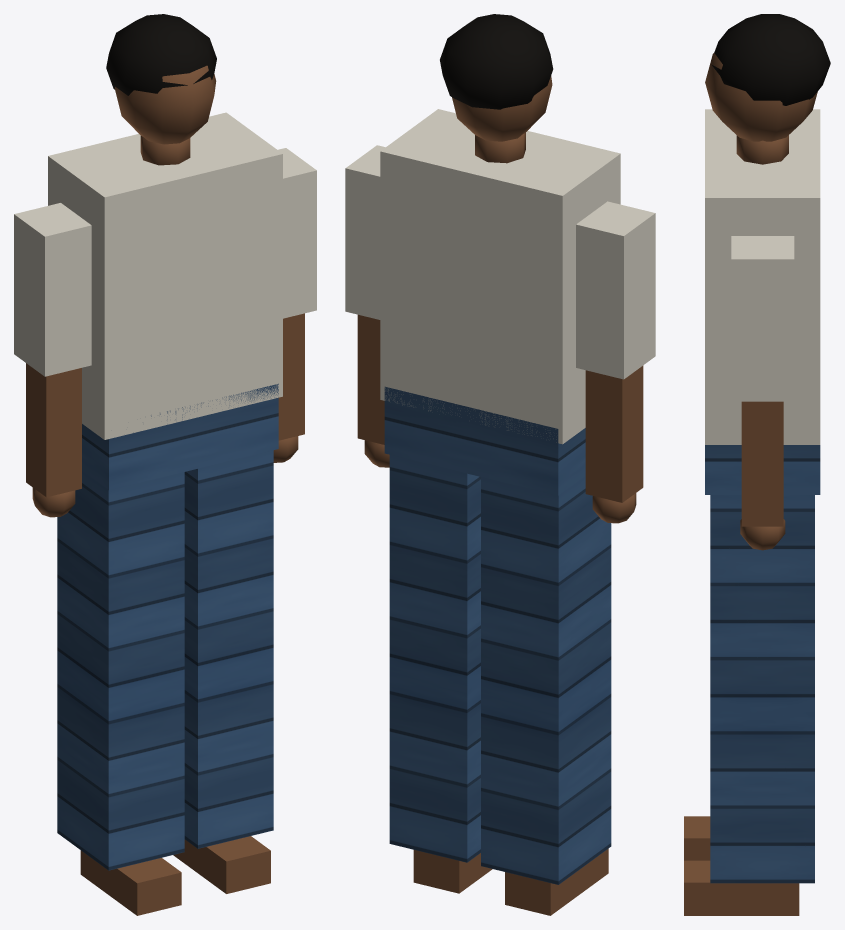
File: civilian.fbx
3 renders of one model, left to right at view 1: azimuth 30°, elevation 25°; view 2: azimuth 150°, elevation 25°; view 3: azimuth 270°, elevation 25°, orthographic. The views are drawn at different scales.
Visible parts, largest first — view 1: Torso, LegR, LegL, ArmR, Head, ArmL; view 2: Torso, LegR, LegL, ArmR, Head, ArmL; view 3: LegL, Torso, ArmL, Head, LegR.
Part boxes in pixels (x1=…): Torso: x1=48, y1=112, x2=282, y2=490; LegR: x1=57, y1=471, x2=184, y2=915; LegL: x1=173, y1=450, x2=273, y2=893; ArmR: x1=14, y1=203, x2=91, y2=517; Head: x1=106, y1=14, x2=216, y2=144; ArmL: x1=273, y1=148, x2=316, y2=462; Torso: x1=380, y1=109, x2=620, y2=495; LegR: x1=481, y1=476, x2=611, y2=915; LegL: x1=389, y1=455, x2=492, y2=893; ArmR: x1=576, y1=201, x2=655, y2=523; Head: x1=440, y1=14, x2=553, y2=141; ArmL: x1=345, y1=145, x2=389, y2=467; LegL: x1=684, y1=495, x2=814, y2=915; Torso: x1=705, y1=109, x2=820, y2=494; ArmL: x1=731, y1=236, x2=794, y2=550; Head: x1=705, y1=14, x2=830, y2=141; LegR: x1=684, y1=816, x2=710, y2=860.
Bounding box in the file's own units: 0.61 × 1.82 × 0.28.
